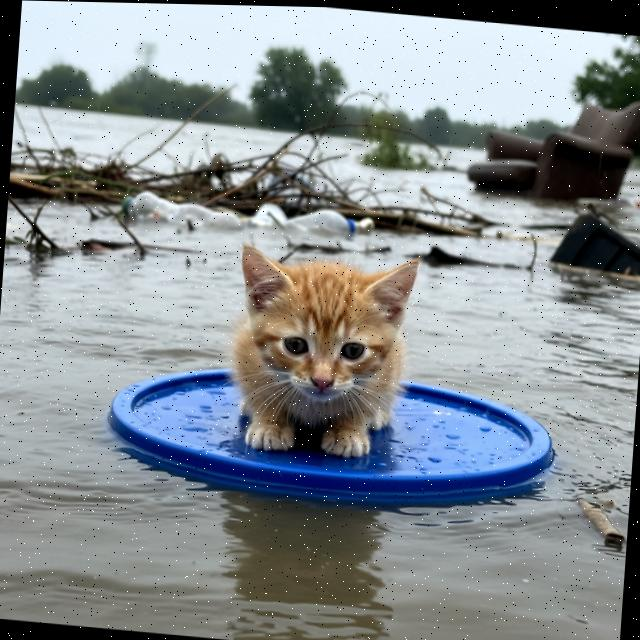cat: (212, 228, 424, 472)
